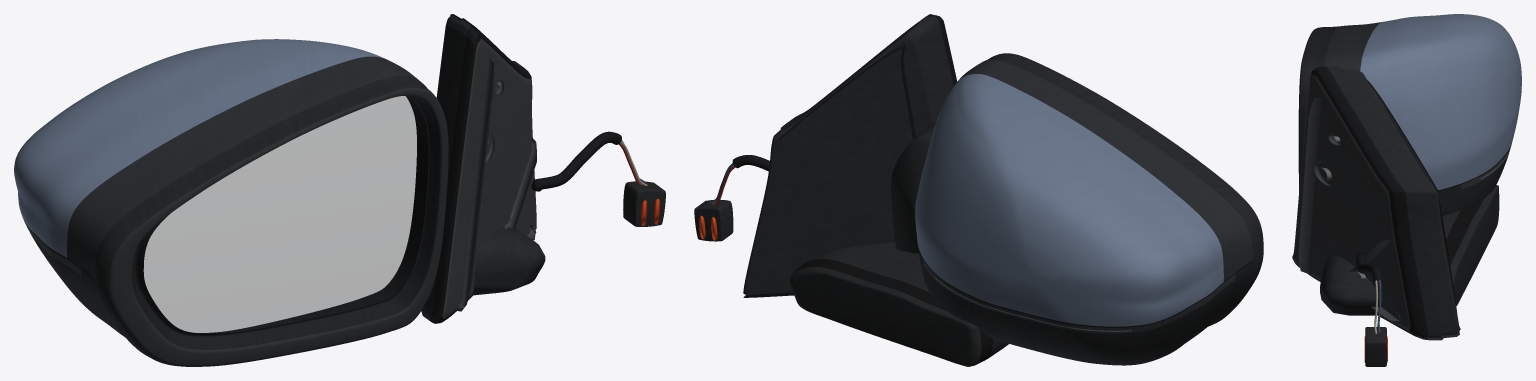
The model's file is peugeot-3008-mirror.glb.
3 renders of one model, left to right at view 1: azimuth 30°, elevation 25°; view 2: azimuth 150°, elevation 25°; view 3: azimuth 270°, elevation 25°, orthographic. The views are drawn at different scales.
Visible parts, largest first — view 1: Satin-painted cover and smoked turn signal, Recessed neutral silver mirror glass, Molded bezel with recessed EPDM glass channel, Triangular door mounting foot with perimeter seal, Matte rubber lip against the recessed glass, Structural lower folding arm, Door-side reinforcement rib (×2), Rectangular keyed electrical socket, Fabric wrapped wiring harness; view 2: Satin-painted cover and smoked turn signal, Stepped cap-side mounting panel, Structural lower folding arm, Triangular door mounting foot with perimeter seal, Inboard hinge neck and collar, Molded bezel with recessed EPDM glass channel, Rectangular keyed electrical socket; view 3: Triangular door mounting foot with perimeter seal, Satin-painted cover and smoked turn signal, Structural lower folding arm, Door-side reinforcement rib (×2), Molded bezel with recessed EPDM glass channel, Rectangular keyed electrical socket, Stepped cap-side mounting panel, Fabric wrapped wiring harness, Recessed door fastener boss.
Part boxes in pixels (x1,y1,x2,y2): Satin-painted cover and smoked turn signal: [14, 39, 427, 355]; Recessed neutral silver mirror glass: [143, 96, 416, 332]; Molded bezel with recessed EPDM glass channel: [100, 82, 448, 366]; Triangular door mounting foot with perimeter seal: [421, 14, 536, 323]; Matte rubber lip against the recessed glass: [138, 96, 428, 334]; Structural lower folding arm: [472, 227, 545, 295]; Door-side reinforcement rib (×2): [456, 58, 536, 311]; Rectangular keyed electrical socket: [623, 181, 665, 226]; Fabric wrapped wiring harness: [531, 131, 621, 191]; Satin-painted cover and smoked turn signal: [915, 56, 1259, 365]; Stepped cap-side mounting panel: [748, 44, 915, 296]; Structural lower folding arm: [790, 242, 1008, 366]; Triangular door mounting foot with perimeter seal: [743, 14, 957, 297]; Inboard hinge neck and collar: [891, 122, 935, 253]; Molded bezel with recessed EPDM glass channel: [989, 53, 1263, 309]; Rectangular keyed electrical socket: [694, 199, 733, 241]; Triangular door mounting foot with perimeter seal: [1292, 66, 1459, 340]; Satin-painted cover and smoked turn signal: [1313, 14, 1521, 215]; Structural lower folding arm: [1320, 185, 1499, 315]; Door-side reinforcement rib (×2): [1298, 97, 1393, 278]; Molded bezel with recessed EPDM glass channel: [1298, 27, 1327, 191]; Rectangular keyed electrical socket: [1365, 327, 1386, 366]; Stepped cap-side mounting panel: [1367, 80, 1460, 329]; Fabric wrapped wiring harness: [1356, 253, 1382, 281]; Recessed door fastener boss: [1314, 161, 1331, 185].
Bounding box in the file's own units: 0.3622 × 0.167 × 0.1538.
Materials: 15 (15 with a texture image).
